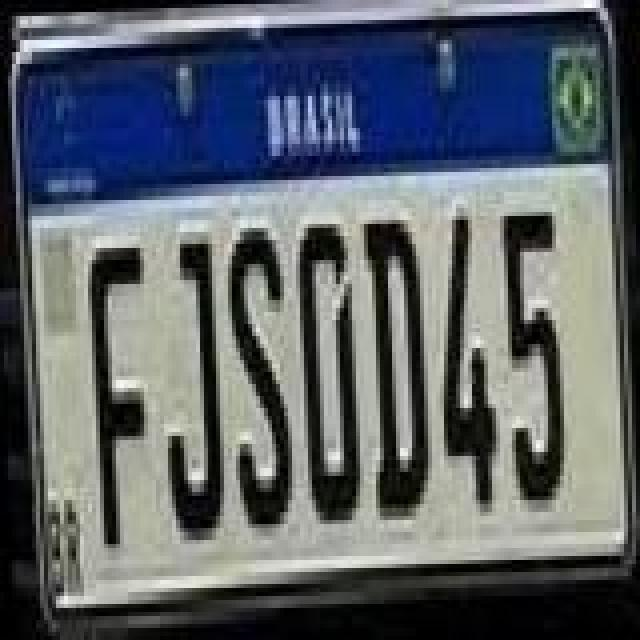4: (428, 204, 500, 516)
5: (498, 204, 574, 508)
D: (290, 218, 366, 534), (358, 212, 434, 524)
F: (84, 240, 156, 552)
J: (154, 230, 230, 546)
S: (222, 220, 298, 540)
